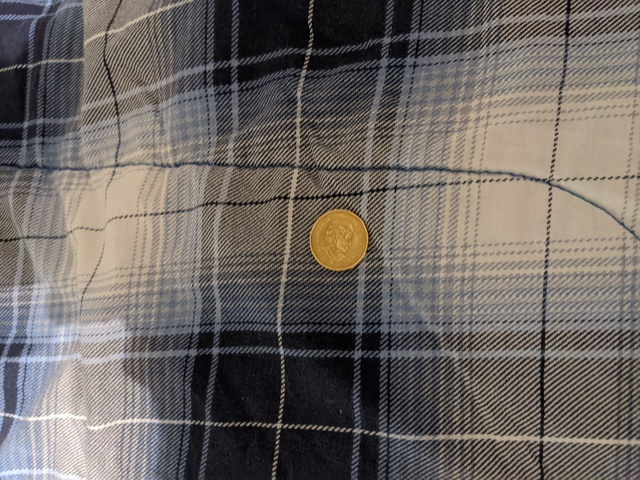loonie: (307, 202, 385, 277)
